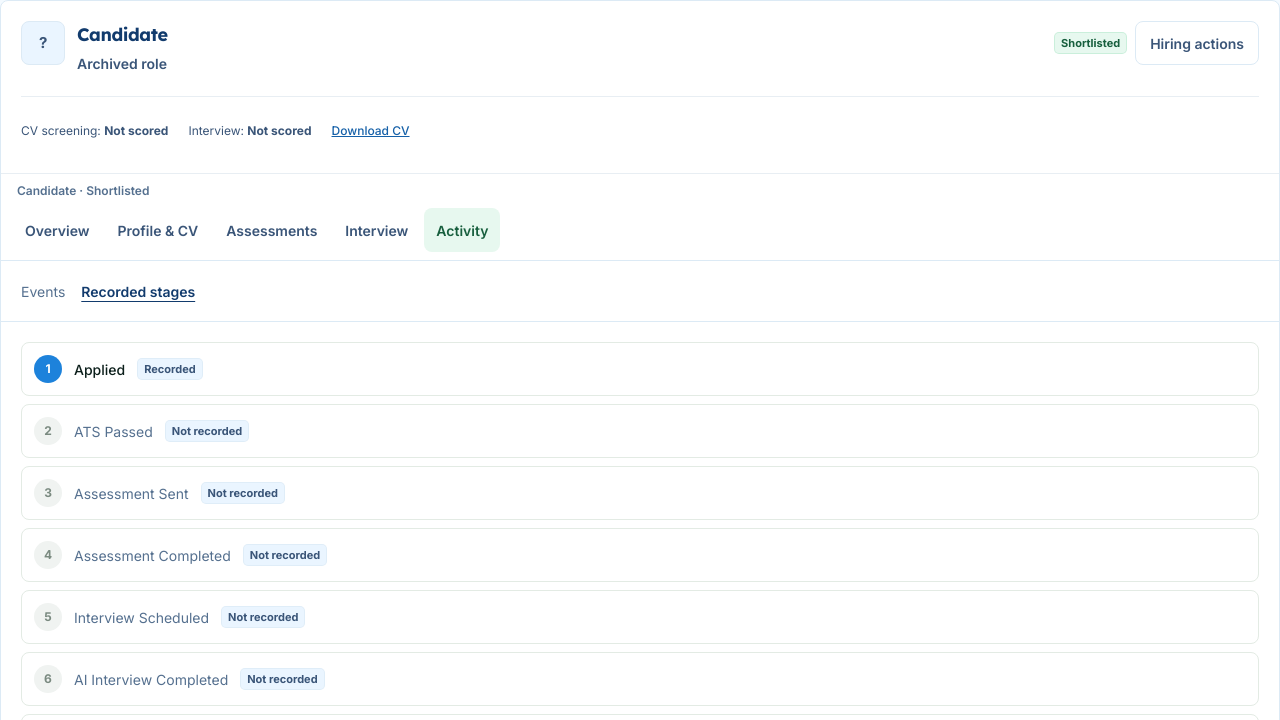
Test: persists candidate section in URL and distinguishes unrecorded steps
Click the button "Activity".
click(462, 230)  # box [424,208,500,252]
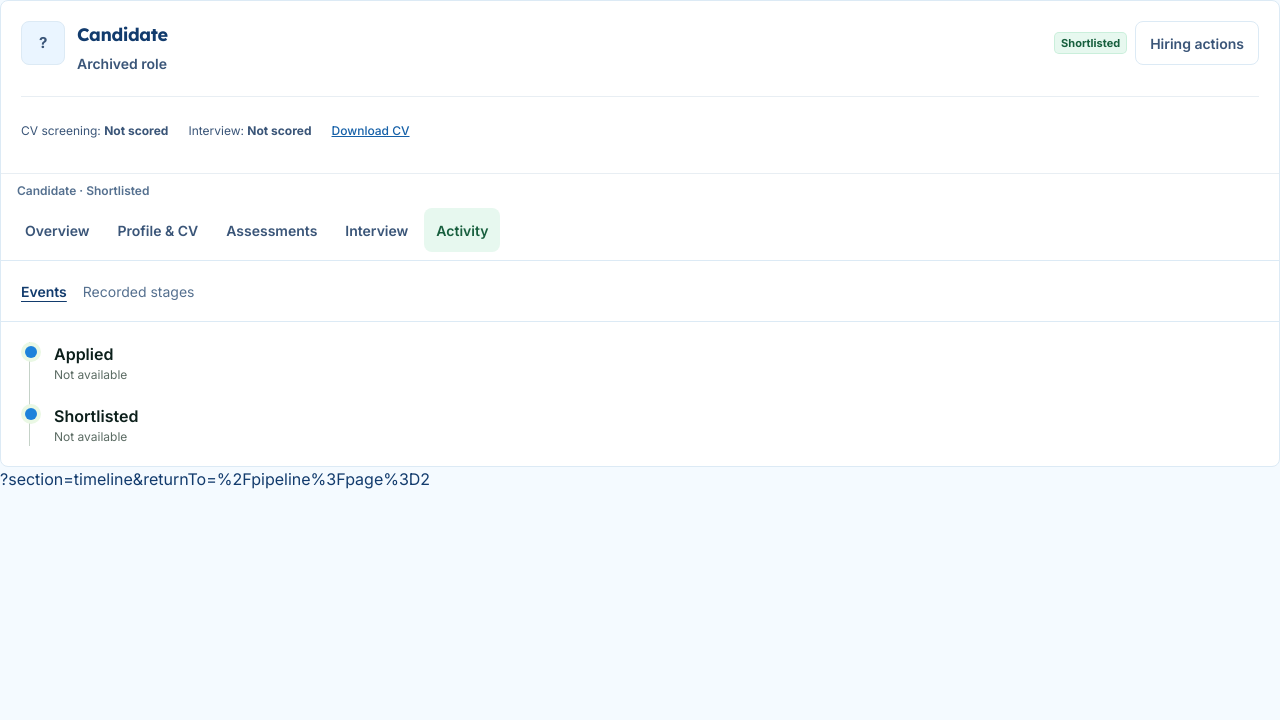
Expected: the text with test id "location" shows "returnTo=", [0,469,430,489]
Expected: the text with test id "location" shows "section=timeline", [0,469,430,489]
